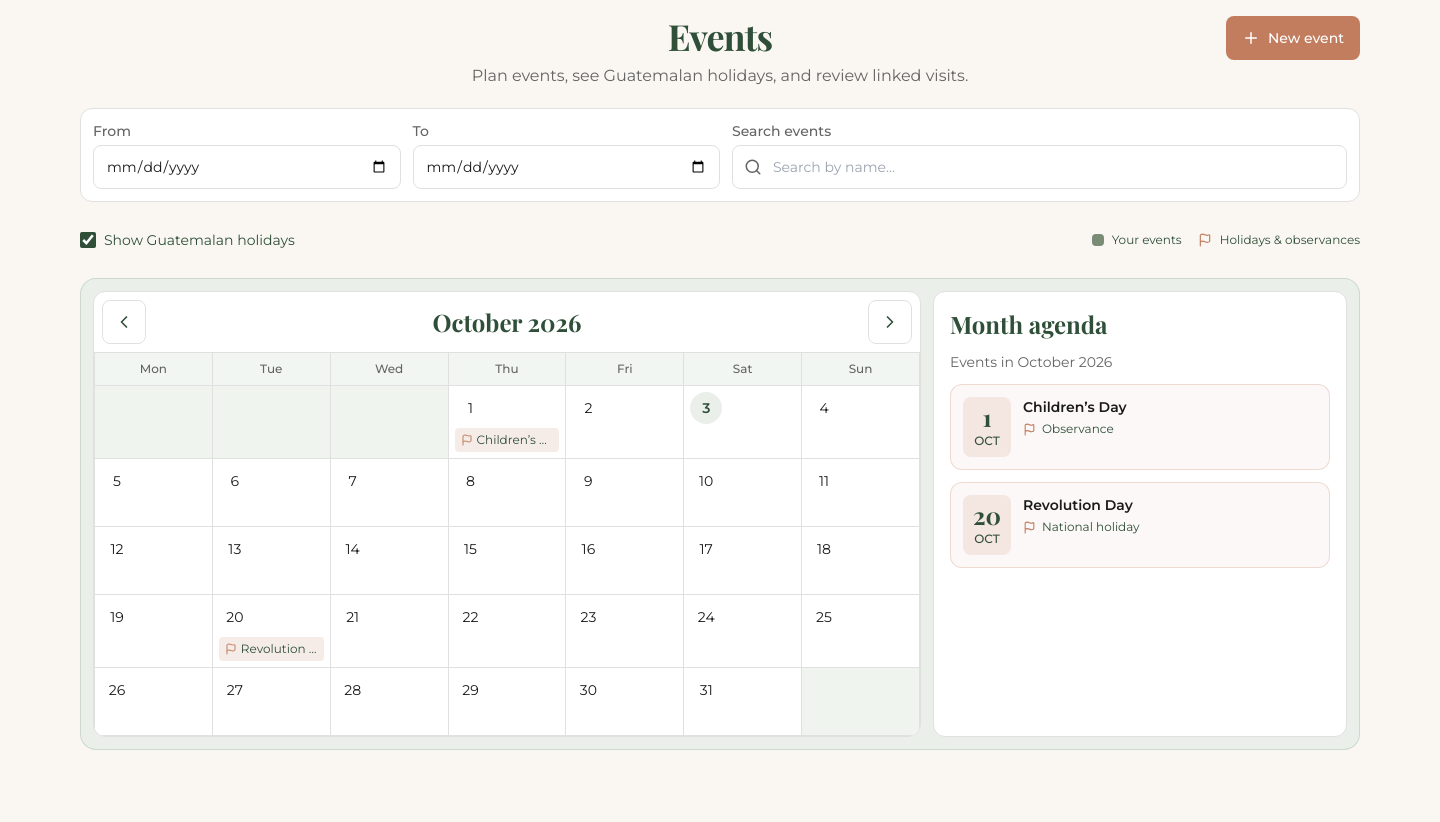
Test case: EventsPage calendar and agenda › keeps the calendar visible with useful month and day empty states
This screenshot has width=1440, height=822.
Step 1. Click the checkbox labelled "Show Guatemalan holidays" → (88,240), box [80,232,96,248]
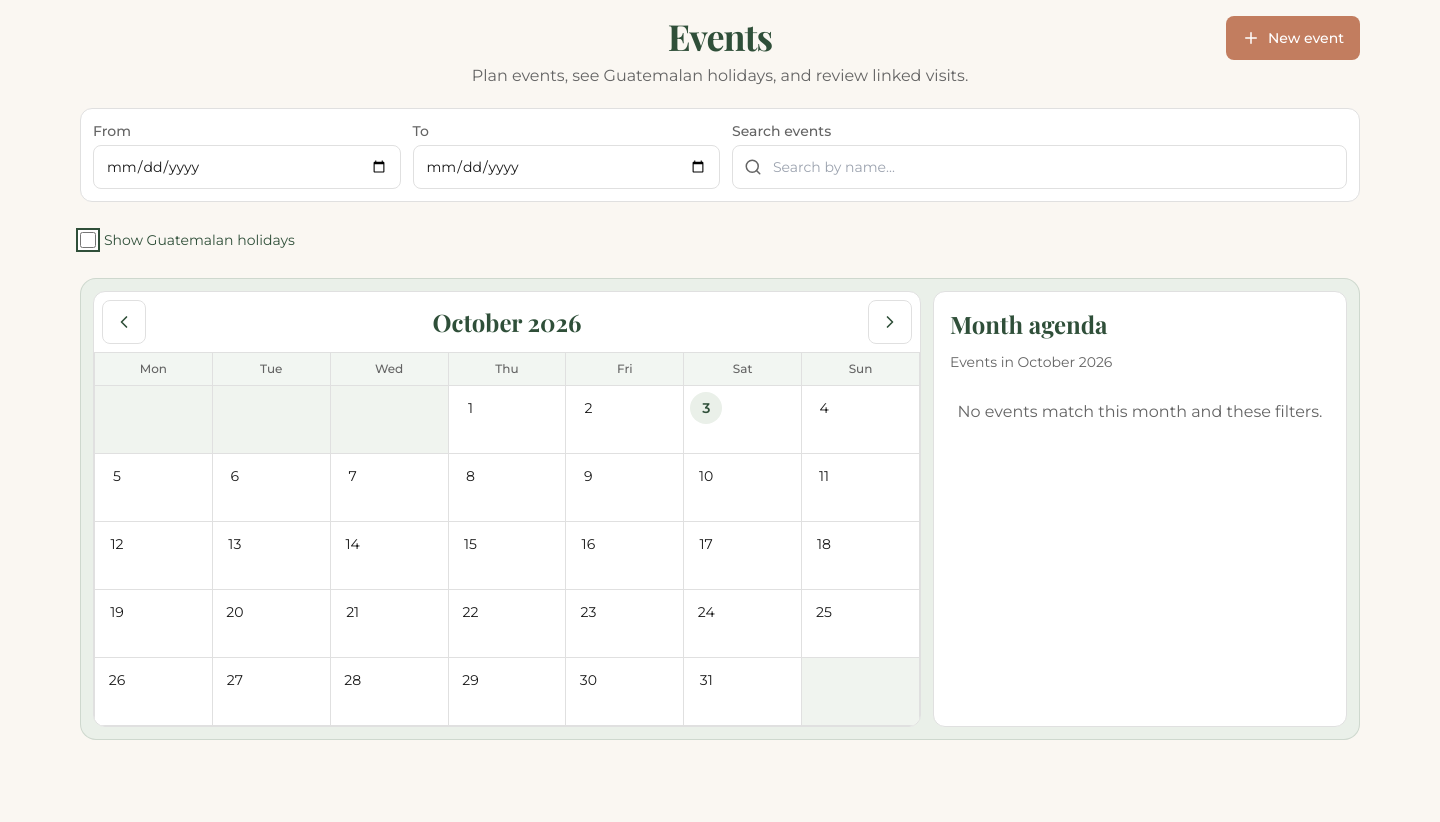
Expected: the table named "October 2026" is shown, [94,352,920,726]
Now the text "No events match this month and these filters." is shown, box [958,402,1322,421]
Step 2. Click the button named "October 13, 2026" → (235,544), box [219,528,251,560]
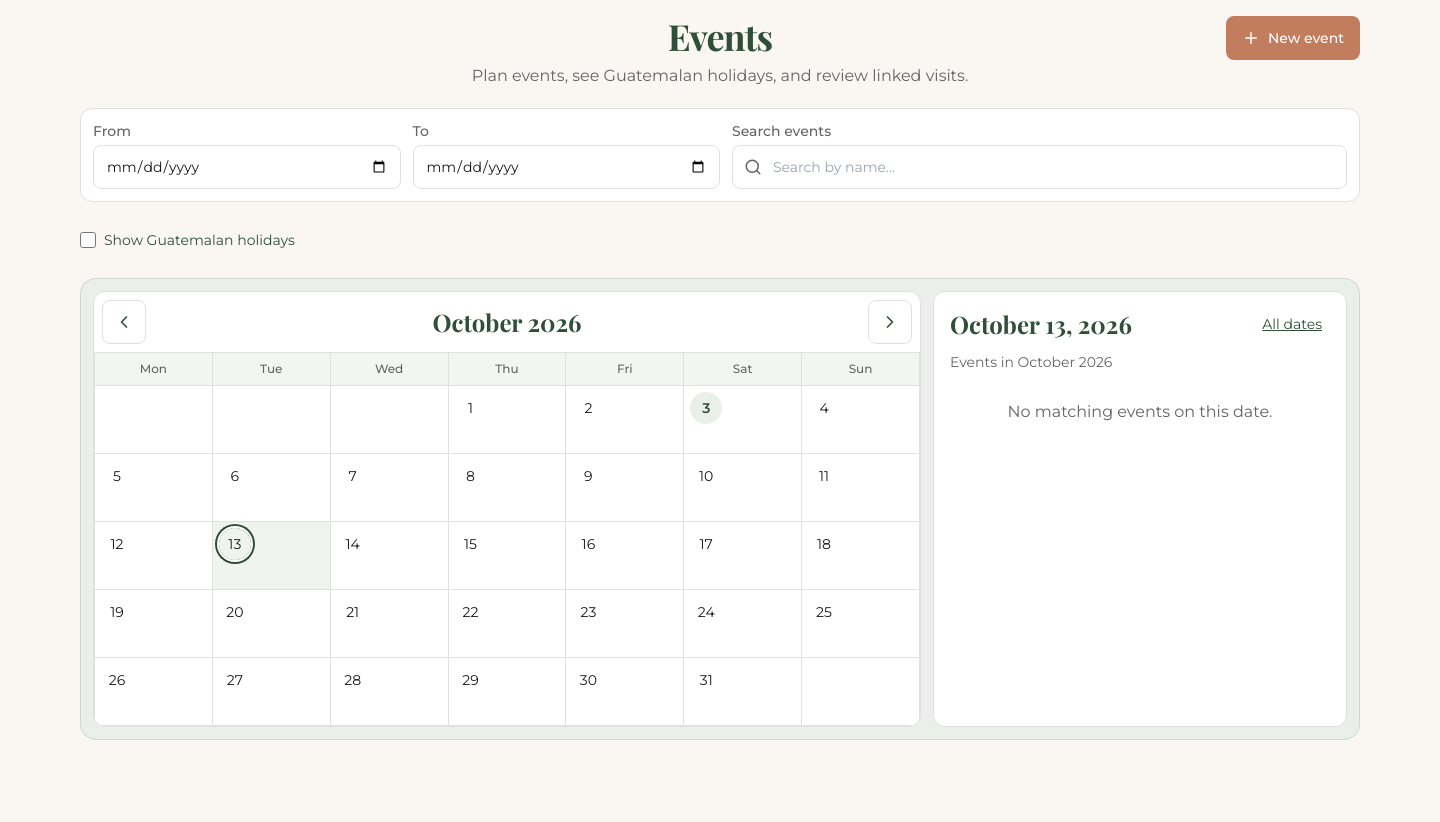
Now the text "No matching events on this date." is shown, box [1008,402,1272,421]
